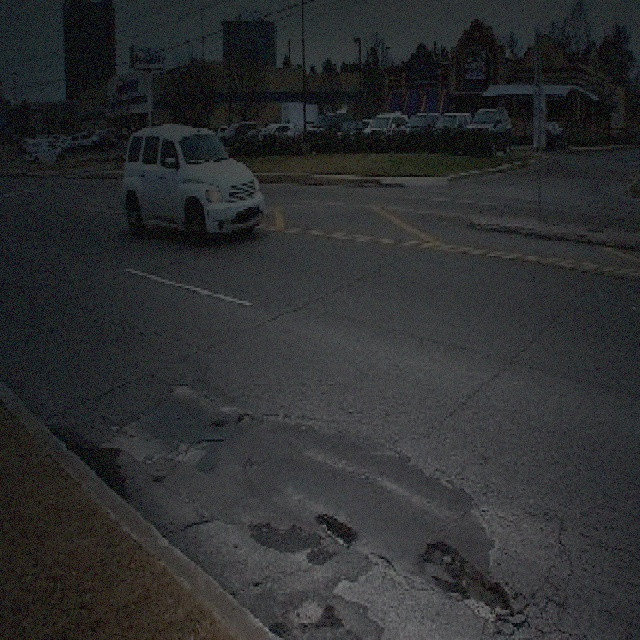pothole: (420, 535, 514, 621), (314, 506, 357, 544), (234, 405, 253, 429), (208, 412, 226, 429)
